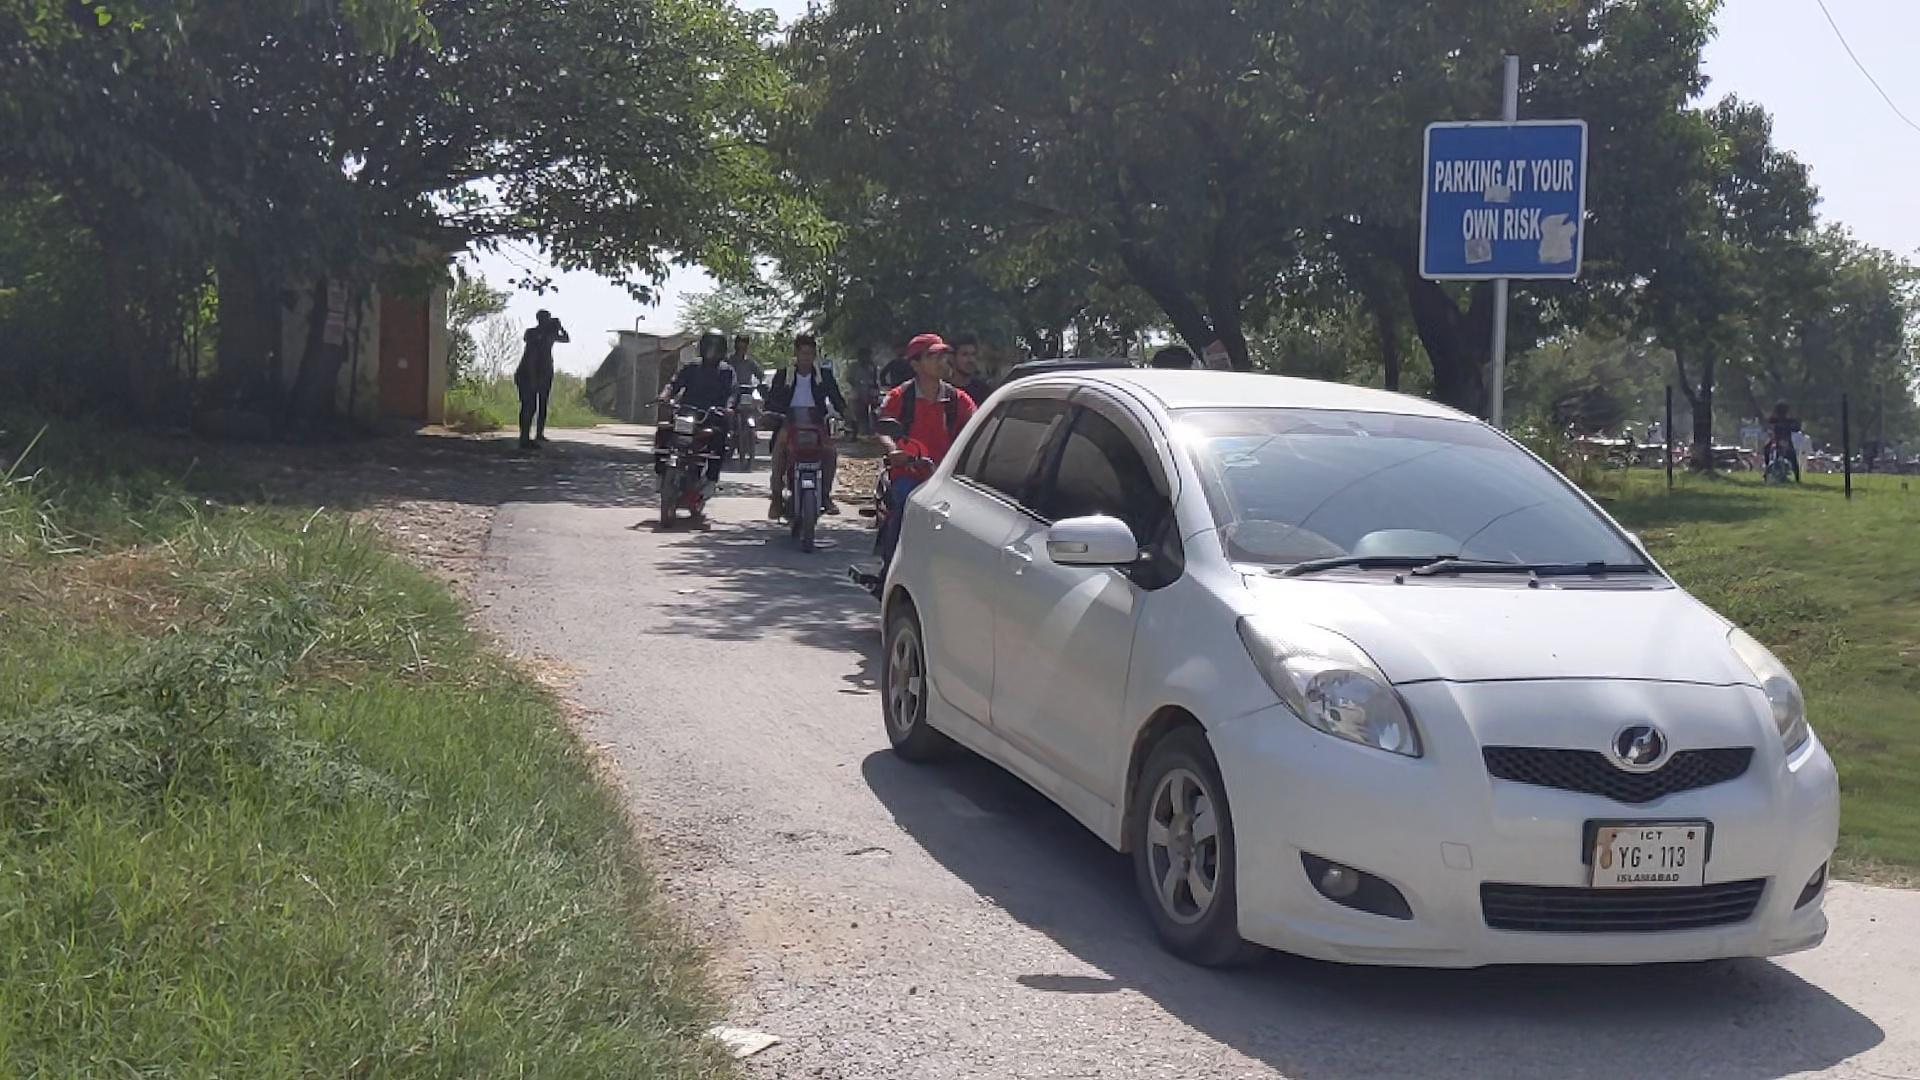windshield: (1167, 400, 1673, 596)
